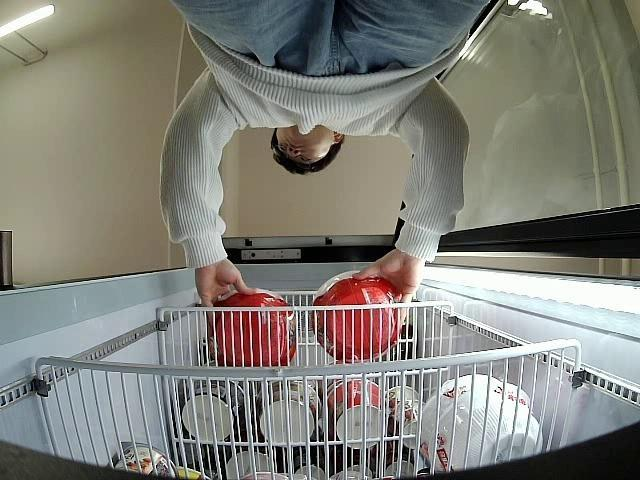10_wangTtukkeong: (310, 268, 400, 360), (206, 290, 296, 369)
